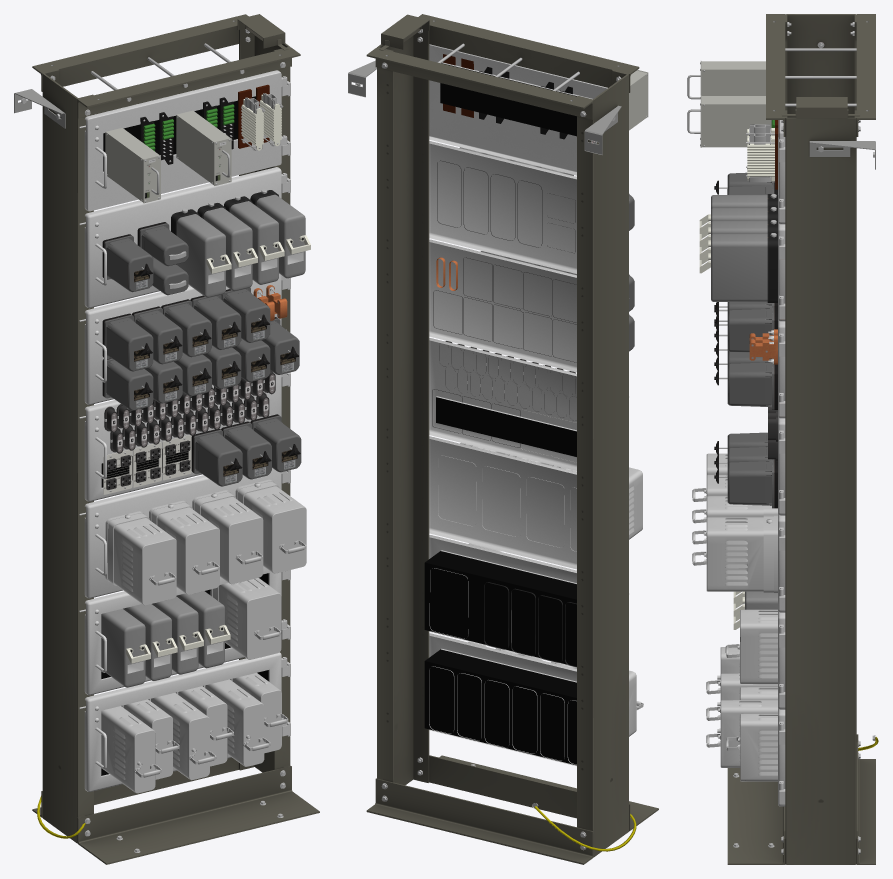
Rendered from stativ211.fbx.
3 views of the same model, side by side, from view 1: azimuth 30°, elevation 25°; view 2: azimuth 150°, elevation 25°; view 3: azimuth 270°, elevation 25° (orthographic).
Parts seen in each view (by area): view 1: cabinet_stativ211, pan_low.001, FPM_group.006, FPM_group.007, fpm.002_low.003, fpm.002_low.002, glass.005_low.008, glass.005_low.009, FPM_group.003, glass.005_low.011, FPM_group.008, kolodka.001 (+17 smaller); view 2: cabinet_stativ211, pan_low.001, FPM_group.006, FPM_group.007, Cube_low.004, fpm.003_low.002, fpm.003_low.003; view 3: cabinet_stativ211, FPM_group.006, fpm.002_low.003, pan_low.001, FPM_group.007, glass.005_low.011, FPM_group.003, Cube_low.005, FPM_group.008, glass.005_low.009, Cube_low.004, glass.005_low.008 (+8 smaller).
Part boxes in pixels (bbox=[...]): cabinet_stativ211: bbox=[14, 14, 319, 864]; pan_low.001: bbox=[79, 70, 290, 791]; FPM_group.006: bbox=[105, 479, 306, 605]; FPM_group.007: bbox=[101, 679, 270, 793]; fpm.002_low.003: bbox=[177, 194, 305, 297]; fpm.002_low.002: bbox=[101, 591, 224, 687]; glass.005_low.008: bbox=[104, 287, 270, 371]; glass.005_low.009: bbox=[104, 318, 299, 410]; FPM_group.003: bbox=[121, 673, 288, 779]; glass.005_low.011: bbox=[193, 415, 301, 486]; FPM_group.008: bbox=[210, 578, 281, 659]; kolodka.001: bbox=[103, 435, 191, 494]; cabinet_stativ211: bbox=[348, 14, 658, 864]; pan_low.001: bbox=[424, 44, 629, 766]; FPM_group.006: bbox=[438, 443, 642, 551]; FPM_group.007: bbox=[457, 648, 643, 764]; Cube_low.004: bbox=[629, 70, 648, 130]; fpm.003_low.002: bbox=[484, 582, 576, 667]; fpm.003_low.003: bbox=[437, 160, 542, 247]; cabinet_stativ211: bbox=[727, 14, 878, 864]; FPM_group.006: bbox=[692, 453, 777, 593]; fpm.002_low.003: bbox=[711, 195, 767, 301]; pan_low.001: bbox=[778, 120, 785, 806]; FPM_group.007: bbox=[706, 647, 777, 767]; glass.005_low.011: bbox=[727, 432, 774, 508]; FPM_group.003: bbox=[726, 687, 777, 781]; Cube_low.005: bbox=[687, 95, 771, 147]; FPM_group.008: bbox=[725, 609, 777, 684]; glass.005_low.009: bbox=[727, 350, 774, 409]; Cube_low.004: bbox=[687, 61, 765, 99]; glass.005_low.008: bbox=[727, 302, 774, 352].
Bounding box in the file's own units: 73.83 × 213 × 48.83.
